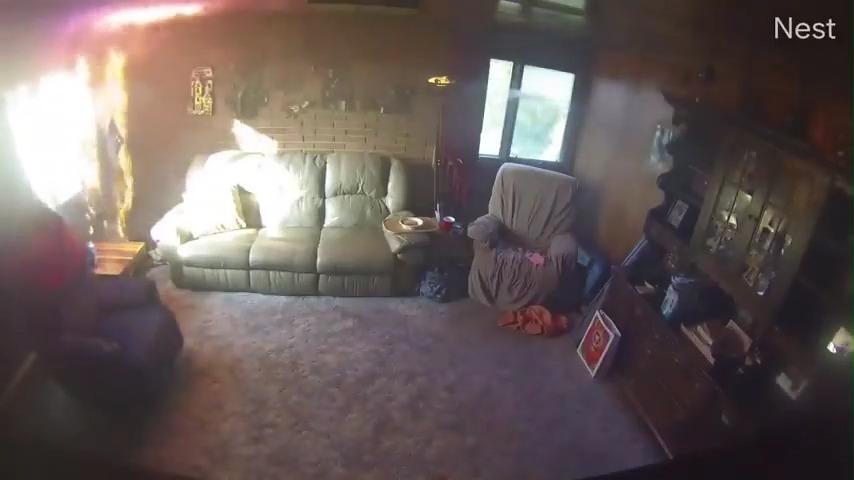fire: (70, 41, 139, 241), (37, 1, 212, 35)
